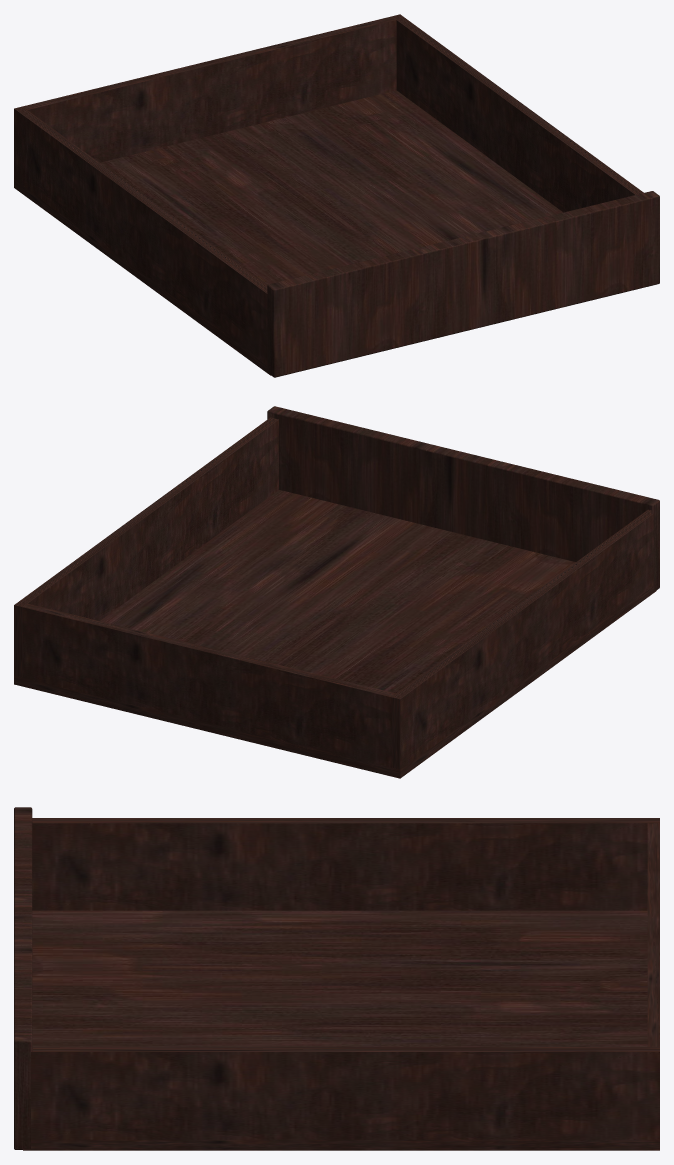
3 views of the same model, one above another, from view 1: azimuth 30°, elevation 25°; view 2: azimuth 150°, elevation 25°; view 3: azimuth 270°, elevation 25° (orthographic). The views are drawn at different scales.
Parts seen in each view (by area): view 1: part9:drawer 2; view 2: part9:drawer 2; view 3: part9:drawer 2.
Part boxes in pixels (left/top/right/bottom): part9:drawer 2: left=14, top=14, right=659, bottom=377; part9:drawer 2: left=14, top=406, right=659, bottom=778; part9:drawer 2: left=14, top=807, right=659, bottom=1150.
Size of the model in its own units: 0.5583 by 0.1221 by 0.6514.
1 material, 1 textured.
